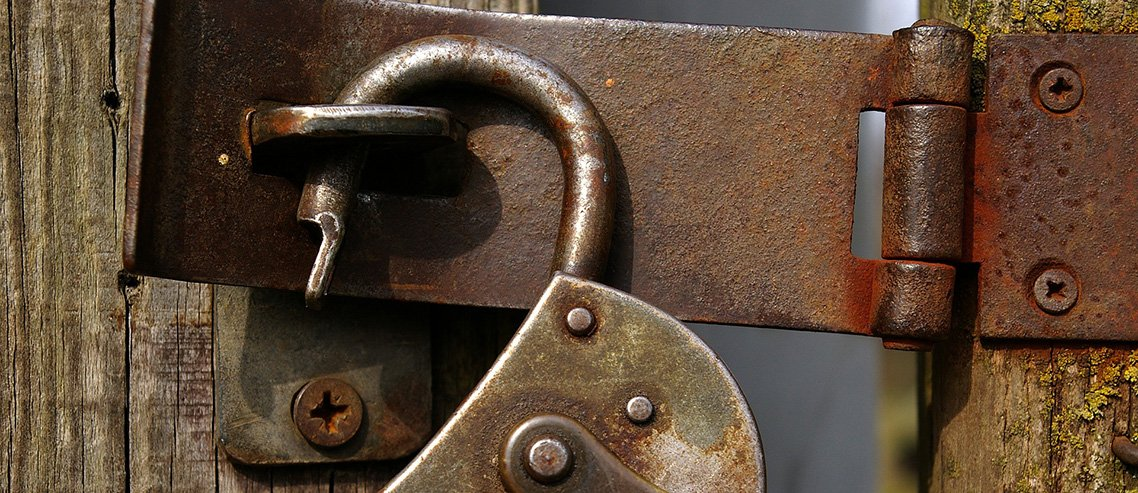rivet: (520, 430, 578, 487), (562, 307, 599, 339), (625, 393, 654, 425)
screw: (289, 374, 368, 453), (1029, 63, 1091, 117), (1031, 266, 1082, 317)
